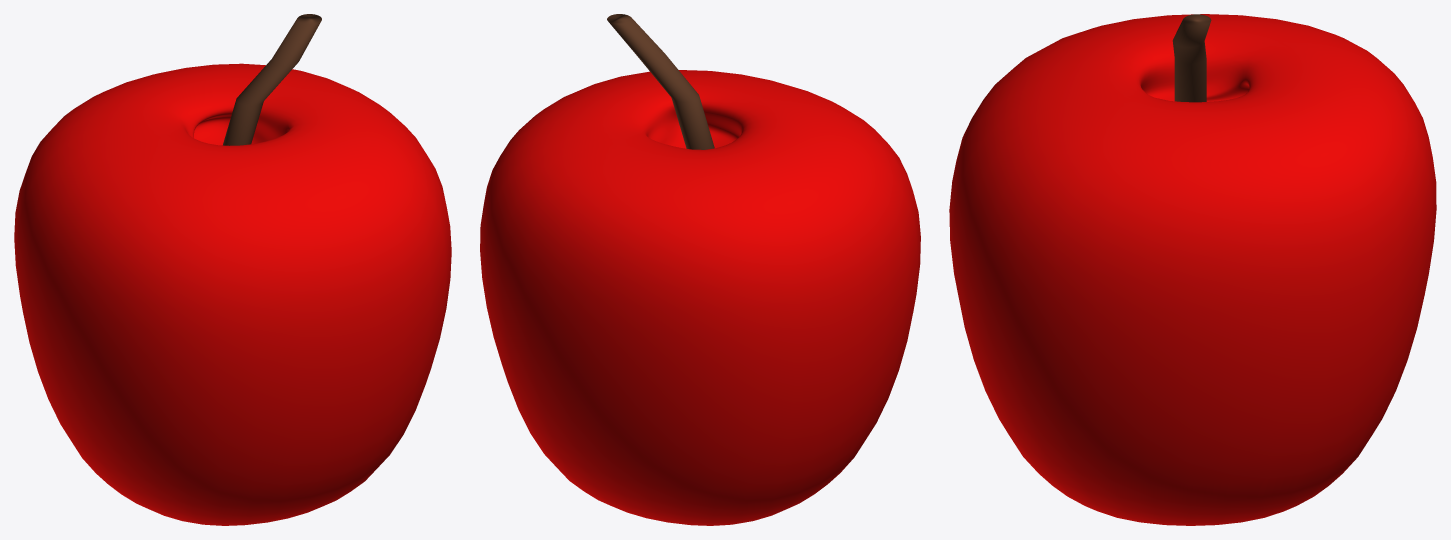
File: untitled.blendapp.fbx
3 renders of one model, left to right at view 1: azimuth 30°, elevation 25°; view 2: azimuth 150°, elevation 25°; view 3: azimuth 270°, elevation 25°, orthographic. The views are drawn at different scales.
Visible parts, largest first — view 1: 立方体, 円柱; view 2: 立方体, 円柱; view 3: 立方体, 円柱.
Boxes of the visible parts, bbox=[...] form: 立方体: bbox=[14, 63, 451, 525]; 円柱: bbox=[223, 14, 321, 145]; 立方体: bbox=[480, 70, 920, 525]; 円柱: bbox=[607, 14, 714, 149]; 立方体: bbox=[949, 14, 1436, 525]; 円柱: bbox=[1172, 14, 1211, 102].
Bounding box in the file's own units: 253 × 295 × 253.
